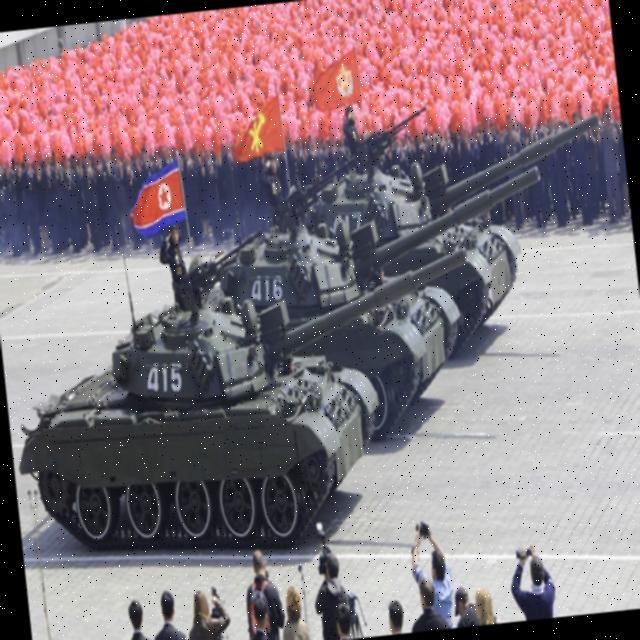north tank: (0, 206, 526, 602), (194, 156, 582, 449), (300, 77, 627, 340)
